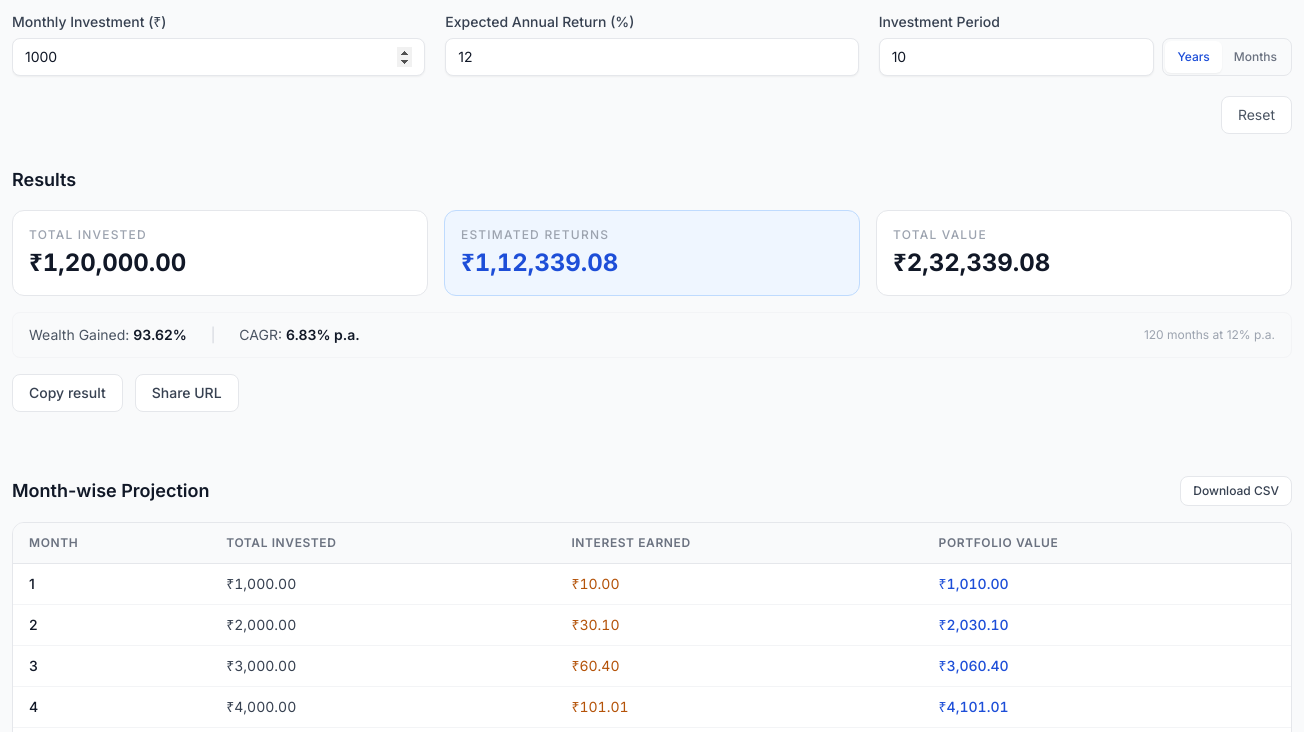
Test: SIPCalculator › shows error when monthly investment is 0
The image size is (1304, 732).
Replace the text in the number field labelled "Monthly Investment (₹)" with "0" at (219, 57), box [12, 38, 425, 76]
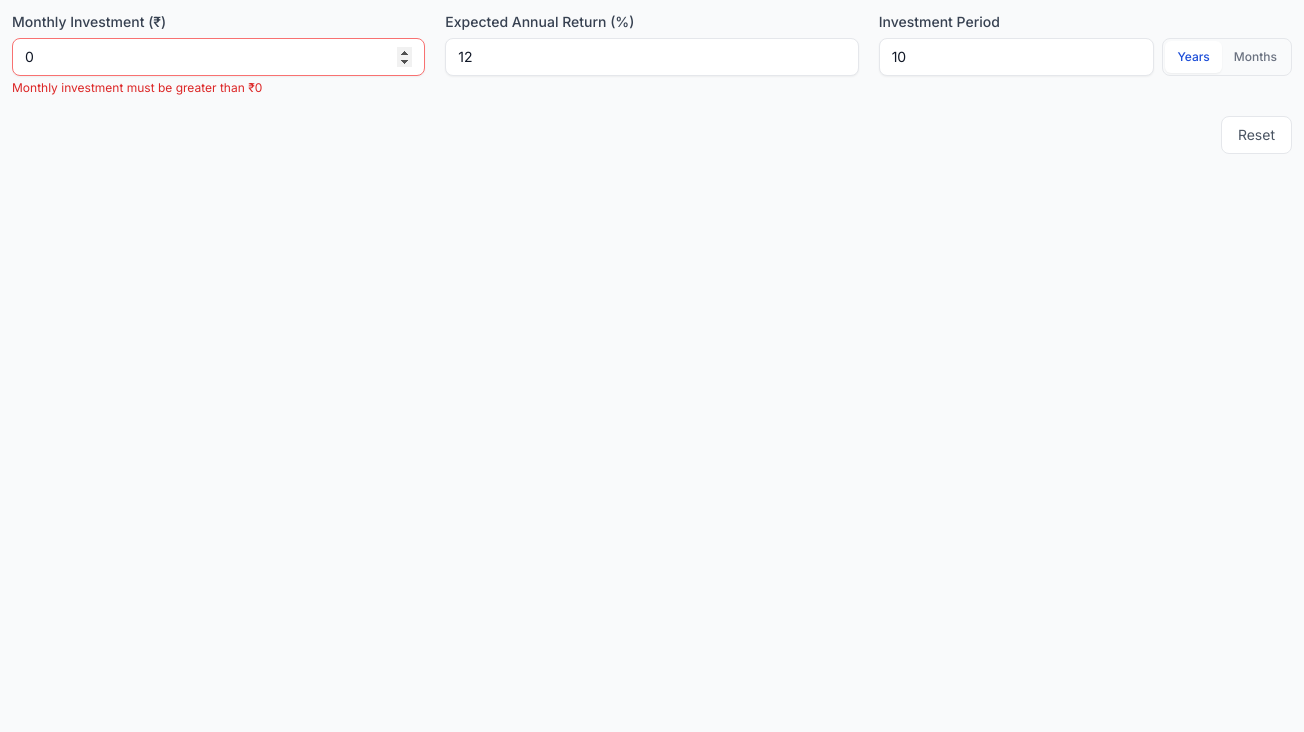
Result: the text "Monthly investment must be greater than ₹0" is shown at [12, 80, 262, 95]
